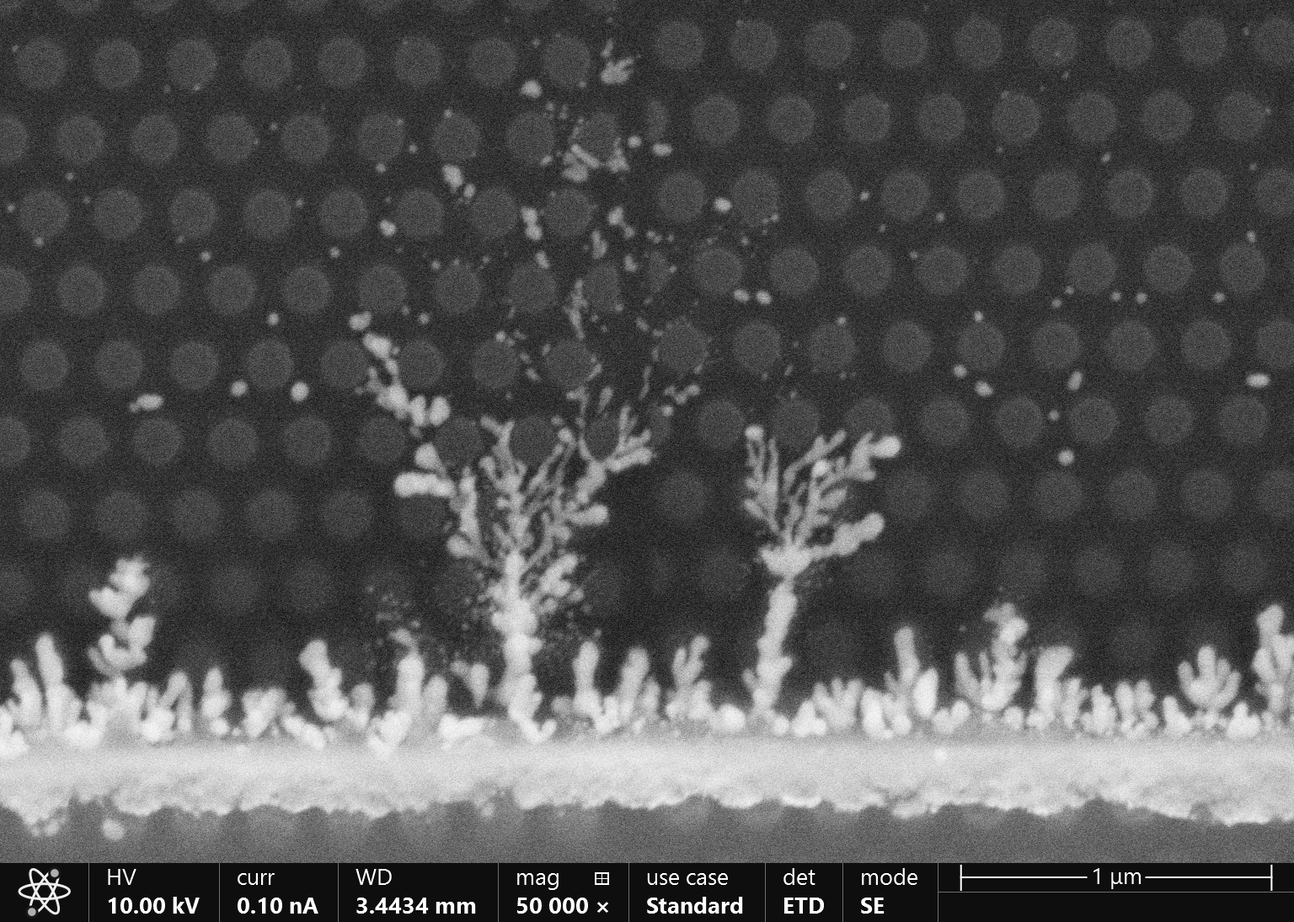dendrite: (743, 481, 883, 732), (479, 548, 542, 737), (480, 415, 531, 544), (299, 640, 372, 726), (94, 671, 189, 736), (364, 335, 425, 426), (577, 437, 654, 501), (982, 603, 1026, 708), (447, 466, 489, 564), (36, 633, 80, 726), (574, 641, 618, 732), (824, 433, 900, 485), (88, 556, 148, 619), (793, 678, 859, 735), (1163, 696, 1259, 735), (1029, 647, 1072, 728), (784, 430, 845, 487), (553, 464, 607, 523), (745, 437, 777, 531), (1254, 604, 1292, 680), (99, 616, 155, 665), (390, 629, 423, 706), (691, 681, 744, 728), (1, 659, 38, 721), (864, 689, 909, 736), (1117, 683, 1155, 737), (530, 513, 569, 565), (1179, 646, 1215, 701), (243, 689, 283, 735), (621, 647, 647, 715), (202, 667, 228, 733), (673, 635, 708, 684), (451, 661, 487, 705), (617, 405, 650, 452), (285, 704, 323, 742), (541, 555, 577, 595), (530, 445, 562, 489), (791, 700, 827, 738), (1083, 686, 1112, 731), (564, 280, 586, 339), (895, 626, 917, 683), (395, 474, 452, 496), (1213, 660, 1238, 705), (915, 668, 937, 716), (933, 701, 968, 730), (1065, 679, 1084, 726), (607, 206, 634, 239), (955, 652, 975, 694), (521, 491, 552, 518), (602, 57, 634, 83), (566, 386, 586, 427), (564, 144, 600, 166), (81, 701, 107, 730), (415, 444, 444, 469), (607, 138, 628, 172), (375, 707, 409, 727), (521, 207, 541, 239), (665, 384, 698, 402), (130, 394, 162, 411), (430, 677, 446, 710), (667, 686, 684, 717), (460, 717, 495, 732), (442, 165, 462, 190), (430, 397, 448, 424), (644, 682, 658, 716), (1266, 683, 1282, 710), (1136, 679, 1152, 706), (586, 354, 602, 380), (493, 523, 511, 545), (592, 231, 606, 258), (639, 366, 650, 399), (650, 100, 665, 124), (1005, 708, 1022, 728), (812, 460, 829, 480), (350, 312, 370, 329), (180, 698, 190, 731), (441, 715, 458, 734), (745, 500, 764, 517), (520, 80, 540, 96), (599, 387, 612, 411), (564, 166, 586, 180), (88, 649, 104, 668), (559, 428, 575, 447), (351, 193, 366, 213), (1246, 373, 1269, 386), (291, 382, 307, 400), (571, 116, 584, 137), (539, 721, 555, 738), (746, 425, 762, 442), (495, 331, 513, 346), (116, 190, 136, 202), (1068, 372, 1082, 389), (380, 220, 395, 235), (660, 265, 676, 279), (1058, 449, 1072, 464), (715, 198, 730, 212), (395, 277, 405, 298), (976, 382, 992, 395), (1263, 711, 1274, 729), (761, 212, 779, 223), (653, 144, 671, 155), (635, 317, 649, 331), (646, 230, 661, 243), (231, 381, 246, 394), (722, 402, 738, 414), (536, 252, 548, 268), (471, 273, 479, 296), (605, 697, 618, 711), (553, 697, 566, 711), (526, 367, 539, 381), (602, 38, 612, 56), (734, 290, 748, 302), (757, 291, 771, 303), (542, 601, 557, 612), (626, 255, 636, 271), (651, 252, 664, 264), (979, 652, 987, 671), (586, 204, 596, 219), (464, 185, 474, 200), (570, 588, 582, 600), (432, 199, 441, 215), (954, 365, 965, 378), (479, 255, 490, 268), (539, 154, 552, 165), (634, 718, 644, 732), (885, 673, 895, 687), (443, 108, 455, 119), (659, 405, 672, 415), (541, 342, 550, 356), (612, 300, 623, 311), (200, 250, 211, 261), (233, 745, 248, 753), (376, 612, 391, 620), (1212, 292, 1224, 302), (628, 136, 640, 146), (34, 235, 44, 247), (694, 360, 703, 373), (324, 728, 335, 738), (551, 415, 562, 425), (859, 190, 869, 201), (783, 364, 793, 375), (1136, 292, 1146, 303), (393, 118, 404, 128), (268, 313, 278, 324), (514, 330, 526, 339), (507, 306, 516, 318), (643, 296, 652, 308), (651, 346, 658, 361), (560, 104, 567, 119), (982, 713, 992, 723), (520, 352, 530, 362), (408, 143, 418, 153), (329, 247, 340, 256), (1247, 231, 1255, 243), (209, 203, 215, 219), (452, 729, 467, 735), (410, 426, 419, 436), (1049, 410, 1058, 420), (1101, 153, 1110, 163), (935, 212, 944, 222), (376, 162, 385, 172), (295, 197, 304, 207), (6, 202, 15, 212), (974, 311, 982, 322), (909, 250, 918, 259), (1111, 291, 1120, 300), (419, 314, 428, 323), (741, 235, 749, 245), (1064, 286, 1074, 294), (430, 261, 440, 269), (837, 316, 845, 325), (1052, 299, 1061, 307), (546, 101, 554, 110), (578, 79, 586, 88), (65, 172, 74, 180), (192, 83, 201, 91), (402, 305, 409, 315), (452, 259, 459, 269), (653, 330, 663, 336), (602, 326, 608, 333), (839, 83, 846, 89), (390, 698, 399, 702), (591, 315, 597, 321), (996, 147, 1002, 152)
